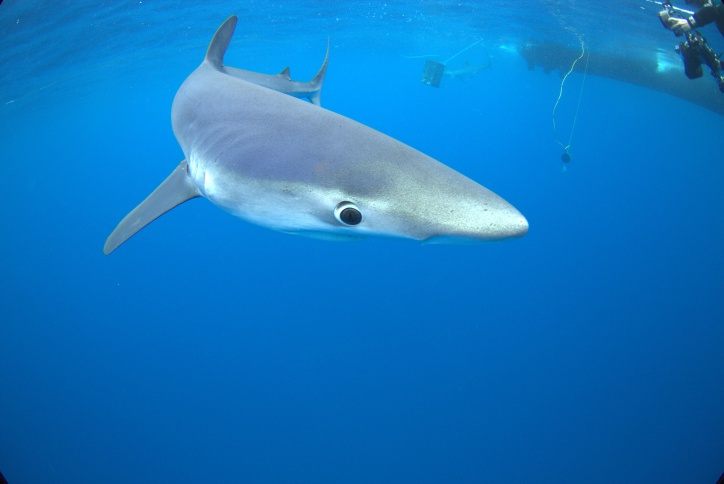Azul: (88, 11, 552, 287)
